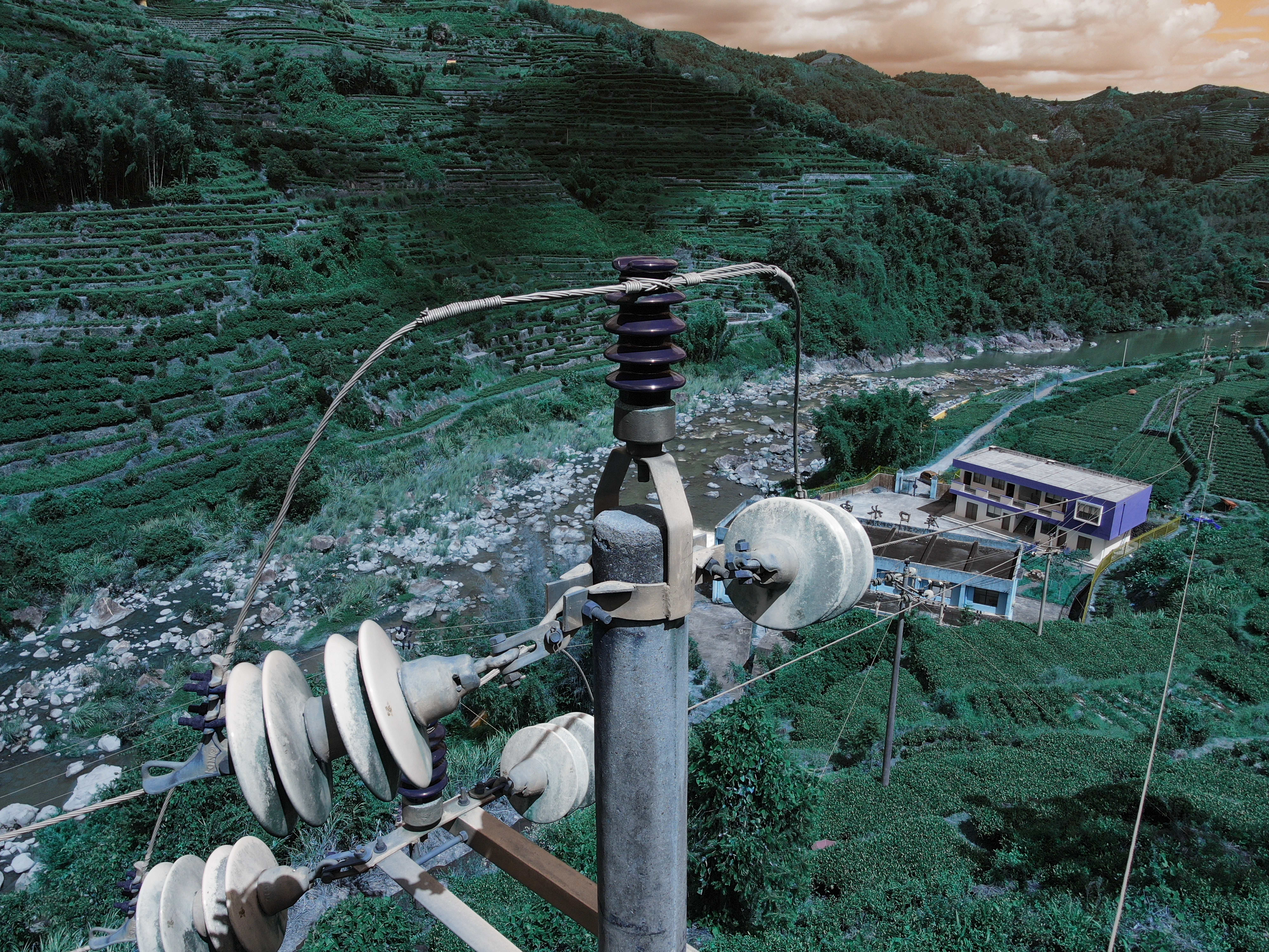severe_soiling_no_discharge_whole: (224, 621, 489, 837), (136, 828, 316, 948), (721, 497, 875, 633), (497, 705, 596, 829)
